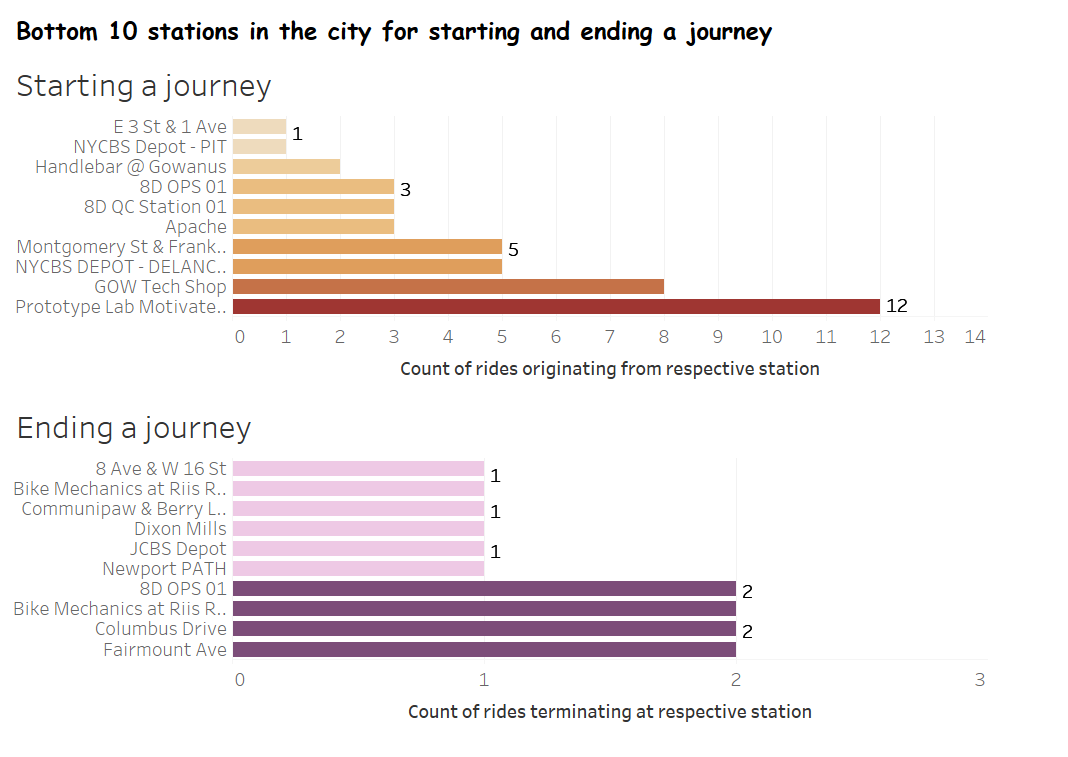

This screenshot's page, from the dashboard's own definition file:
{"tool":"tableau","page":{"name":"Bot 10 Stations","canvas":[1000,800],"ordinal":0},"visuals":[{"type":"text","box":[8,8,984,50]},{"type":"worksheet","title":"Bot_stn_start_jrny","mark":"Automatic","rows":["start station name"],"cols":["start station name"],"box":[8,58,984,342]},{"type":"worksheet","title":"Bot_stn_end_jrny","mark":"Automatic","rows":["end station name"],"cols":["end station name"],"box":[8,400,984,392]}]}

Visuals, with their boxes on the page's 1000x800 design canvas (x1, y1, x2, y2). These are canvas units, not pixel positions in the 1068x757 screenshot, which may show the page scaled, cropped or inside an application window:
text: crop(8, 8, 992, 58)
"Bot_stn_start_jrny" worksheet: crop(8, 58, 992, 400)
"Bot_stn_end_jrny" worksheet: crop(8, 400, 992, 792)
